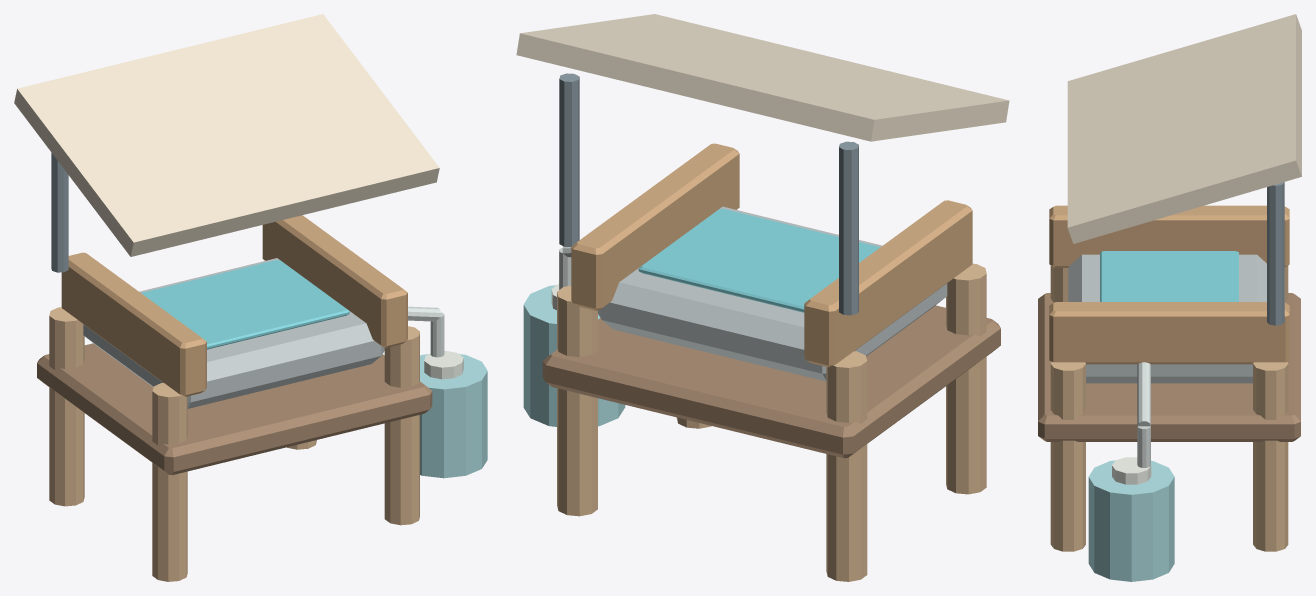
Rendered from solar_purifier.glb.
The picture shows the model from 3 angles, left to right: view 1: azimuth 30°, elevation 25°; view 2: azimuth 150°, elevation 25°; view 3: azimuth 270°, elevation 25°; orthographic projection. The views are drawn at different scales.
Visible parts, largest first — view 1: solar_purifier_canvas, solar_purifier_wood_bark, solar_purifier_wood_mid, solar_purifier_wood_honey, solar_purifier_metal, solar_purifier_water, solar_purifier_plastic_aqua, solar_purifier_iron, solar_purifier_metal_edge, solar_purifier_plastic_white; view 2: solar_purifier_canvas, solar_purifier_wood_bark, solar_purifier_wood_mid, solar_purifier_wood_honey, solar_purifier_metal, solar_purifier_water, solar_purifier_iron, solar_purifier_plastic_aqua; view 3: solar_purifier_canvas, solar_purifier_wood_mid, solar_purifier_wood_bark, solar_purifier_wood_honey, solar_purifier_plastic_aqua, solar_purifier_water, solar_purifier_metal, solar_purifier_iron, solar_purifier_metal_edge, solar_purifier_plastic_white.
Boxes of the visible parts, bbox=[...] form: solar_purifier_canvas: bbox=[14, 14, 439, 256]; solar_purifier_wood_bark: bbox=[37, 343, 432, 475]; solar_purifier_wood_mid: bbox=[61, 215, 407, 396]; solar_purifier_wood_honey: bbox=[49, 307, 419, 581]; solar_purifier_metal: bbox=[83, 258, 384, 408]; solar_purifier_water: bbox=[141, 260, 349, 349]; solar_purifier_plastic_aqua: bbox=[420, 354, 487, 478]; solar_purifier_iron: bbox=[51, 152, 68, 272]; solar_purifier_metal_edge: bbox=[408, 306, 444, 357]; solar_purifier_plastic_white: bbox=[424, 350, 463, 379]; solar_purifier_canvas: bbox=[516, 14, 1009, 141]; solar_purifier_wood_bark: bbox=[542, 305, 1000, 458]; solar_purifier_wood_mid: bbox=[571, 143, 972, 367]; solar_purifier_wood_honey: bbox=[557, 263, 986, 581]; solar_purifier_metal: bbox=[598, 206, 947, 381]; solar_purifier_water: bbox=[638, 209, 880, 312]; solar_purifier_iron: bbox=[559, 73, 858, 315]; solar_purifier_plastic_aqua: bbox=[523, 285, 625, 426]; solar_purifier_canvas: bbox=[1067, 14, 1301, 243]; solar_purifier_wood_mid: bbox=[1049, 205, 1289, 364]; solar_purifier_wood_bark: bbox=[1038, 293, 1300, 441]; solar_purifier_wood_honey: bbox=[1050, 265, 1288, 551]; solar_purifier_plastic_aqua: bbox=[1088, 460, 1174, 581]; solar_purifier_water: bbox=[1100, 251, 1238, 301]; solar_purifier_metal: bbox=[1068, 254, 1266, 383]; solar_purifier_iron: bbox=[1267, 182, 1284, 325]; solar_purifier_metal_edge: bbox=[1137, 362, 1150, 467]; solar_purifier_plastic_white: bbox=[1112, 457, 1151, 484].
Size of the model in its own units: 1.7 by 1.75 by 1.04.
